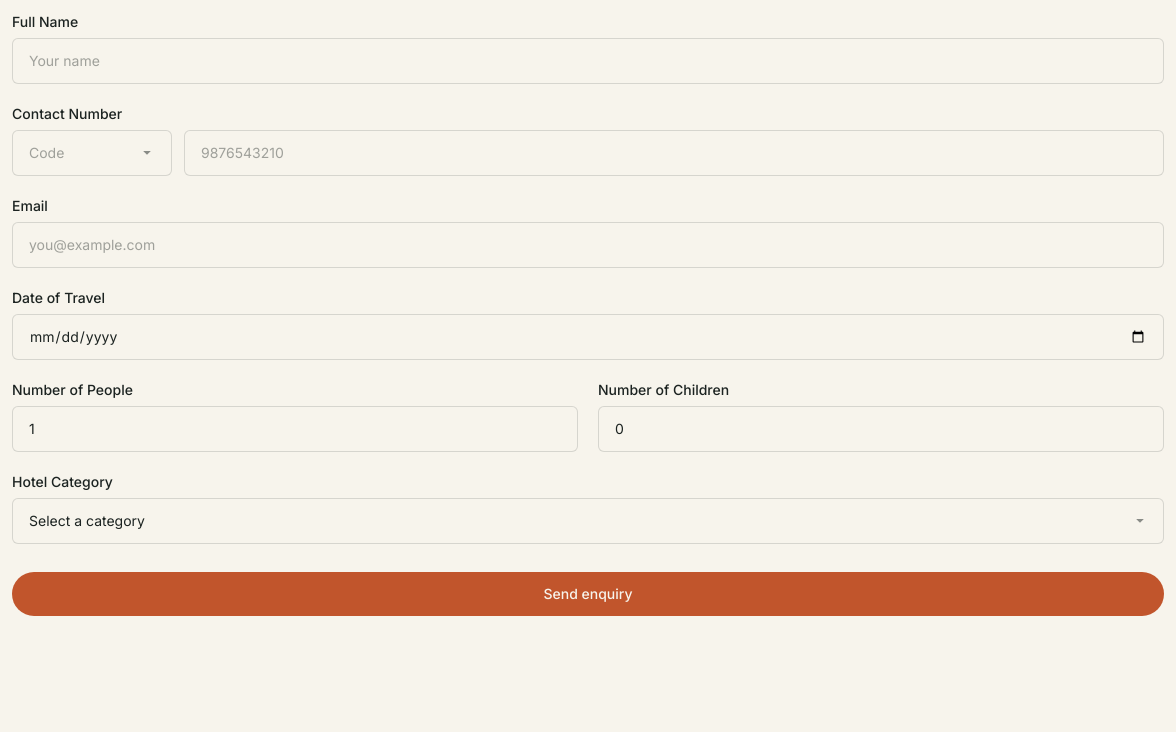
it: BookingForm › shows a validation error when submitted empty
The image size is (1176, 732).
Click the button "Send enquiry" at (588, 594), box [12,572,1164,616]
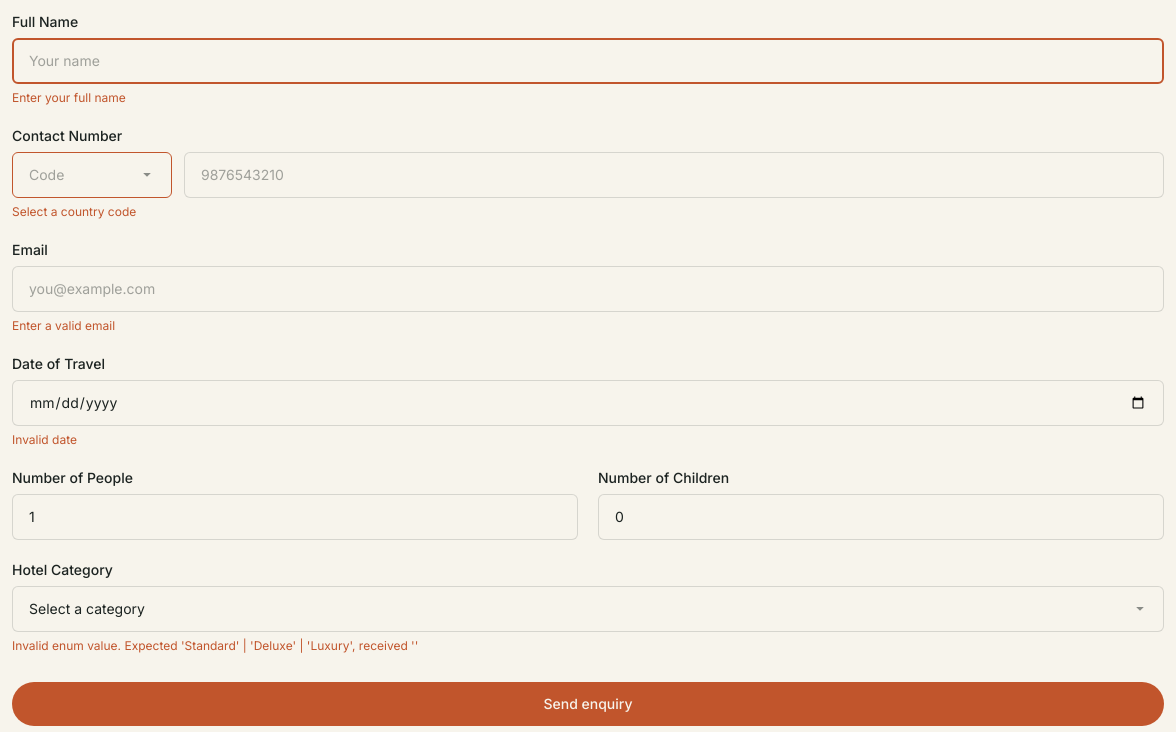
Check: the text "Enter your full name" is shown, box [12,90,126,105]
